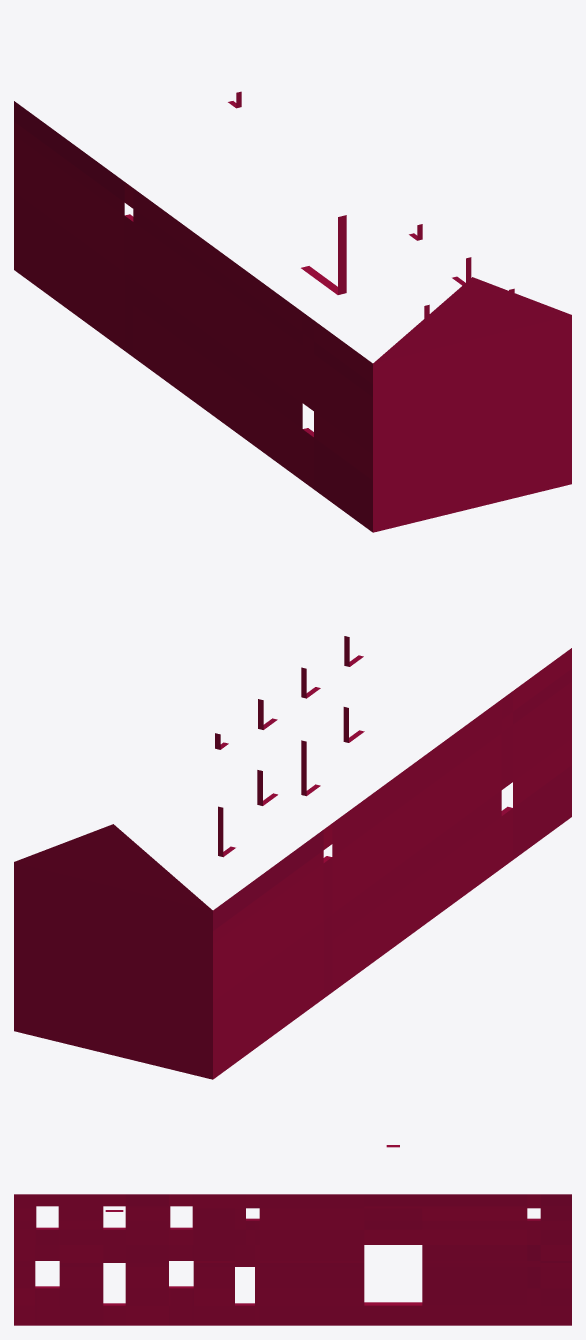
The model's file is SM_Bld_015_Masonry.glb.
The picture shows the model from 3 angles, top to bottom: view 1: azimuth 30°, elevation 25°; view 2: azimuth 150°, elevation 25°; view 3: azimuth 270°, elevation 25°; orthographic projection. The views are drawn at different scales.
Visible parts, largest first — view 1: SM_Bld_015_Masonry; view 2: SM_Bld_015_Masonry; view 3: SM_Bld_015_Masonry.
Part boxes in pixels (x1,y1,x2,y2): SM_Bld_015_Masonry: [14, 91, 571, 532]; SM_Bld_015_Masonry: [14, 636, 571, 1079]; SM_Bld_015_Masonry: [14, 1145, 571, 1325].
Size of the model in its own units: 8 by 8.89 by 25.
